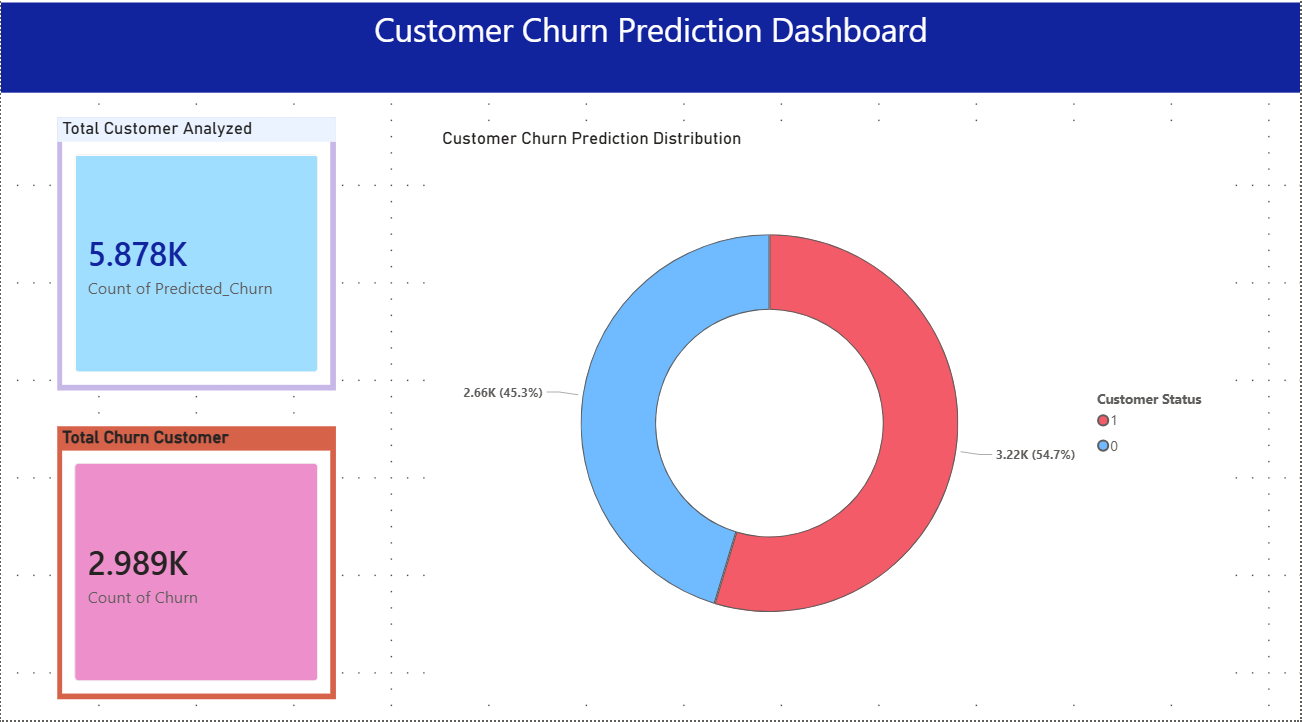

The page's visual inventory and layout, read from the dashboard file:
{"tool":"powerbi","page":{"name":"Page 2","canvas":[1280,720],"ordinal":1},"visuals":[{"type":"cardVisual","title":"Total Customer Analyzed","fields":{"Data":["CountNonNull(customer_churn_predictions.Predicted_Churn)"]},"box":[55.7,125.2,274.1,268.5],"z":0},{"type":"donutChart","title":"Customer Churn Prediction Distribution","fields":{"Category":["customer_churn_predictions.Predicted_Churn"],"Y":["CountNonNull(customer_churn_predictions.Predicted_Churn)"]},"box":[429.9,135,773.6,563.5],"z":1000},{"type":"textbox","box":[0,12.5,1280,89],"z":2000},{"type":"cardVisual","title":"Total Churn Customer","fields":{"Data":["CountNonNull(customer_churn_predictions.Churn)"]},"box":[55.7,429.9,274.1,268.5],"z":2001}]}

Visuals, with their boxes in screenshot pixels (x1, y1, x2, y2), scaled from the page's 1280x720 canvas onto the 1302x722 screenshot:
"Total Customer Analyzed" cardVisual: pyautogui.locateOnScreen(57, 126, 335, 395)
"Customer Churn Prediction Distribution" donutChart: pyautogui.locateOnScreen(437, 135, 1224, 700)
textbox: pyautogui.locateOnScreen(0, 13, 1301, 102)
"Total Churn Customer" cardVisual: pyautogui.locateOnScreen(57, 431, 335, 700)
